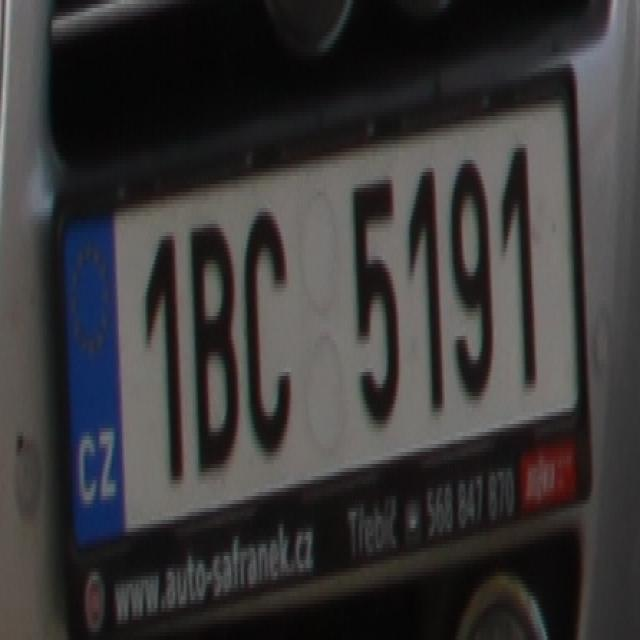1: (140, 232, 190, 492), (500, 132, 540, 392), (405, 168, 443, 412)
5: (351, 164, 399, 420)
9: (445, 144, 495, 404)
B: (188, 212, 238, 468)
C: (244, 212, 294, 452)
